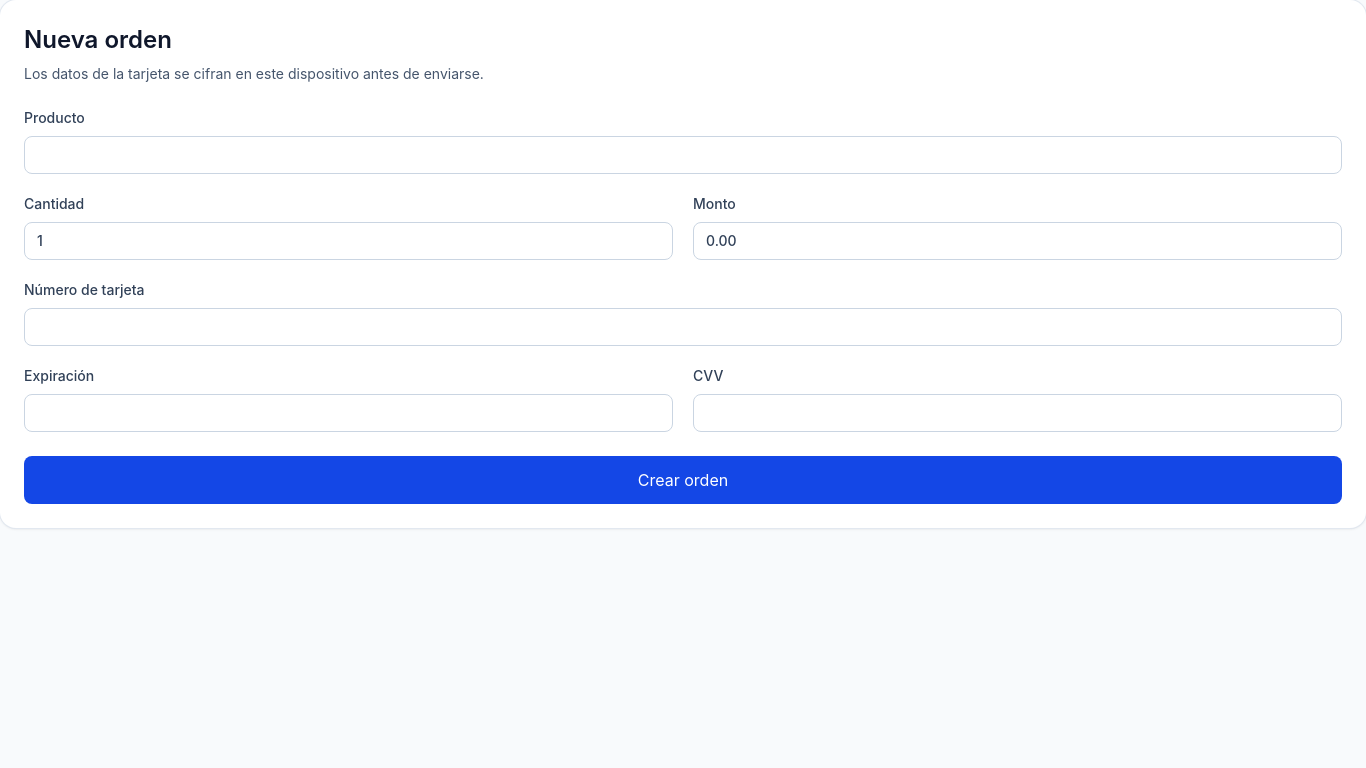
OrderForm › no envía la orden cuando falla el cifrado
Type "Monitor" into the field labelled "Producto" at [683, 155], box [24,136,1342,174]
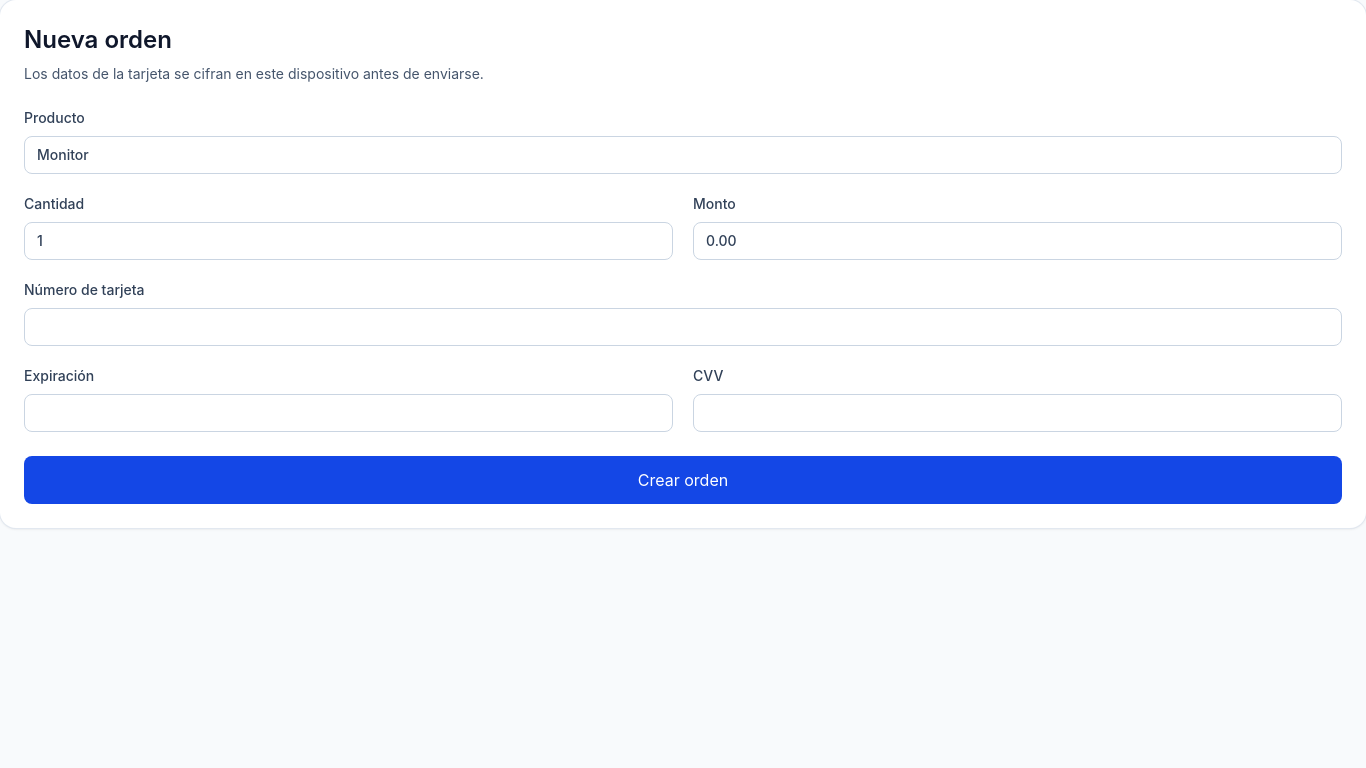
Type "4111111111111111" into the password field labelled "Número de tarjeta" at [683, 327], box [24,308,1342,346]
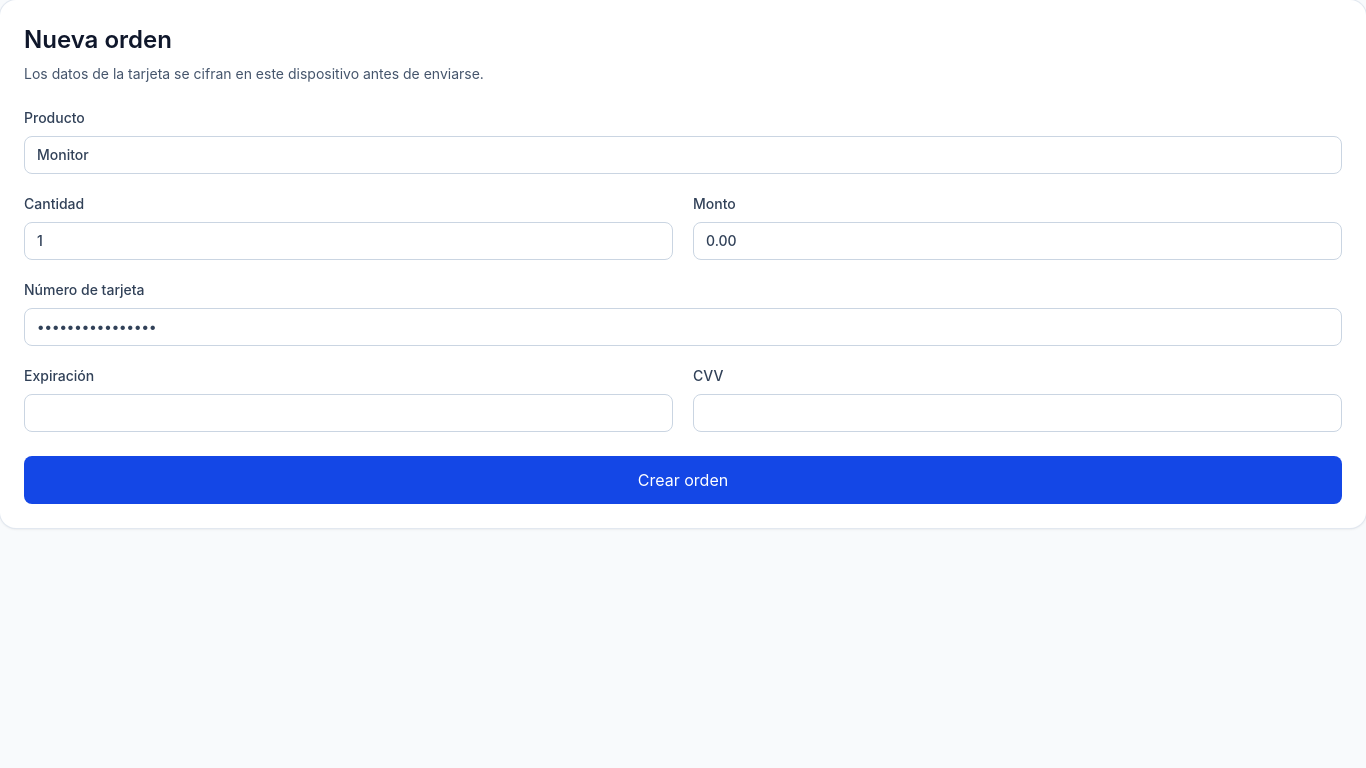
Type "12/30" into the field labelled "Expiración" at [348, 413], box [24,394,673,432]
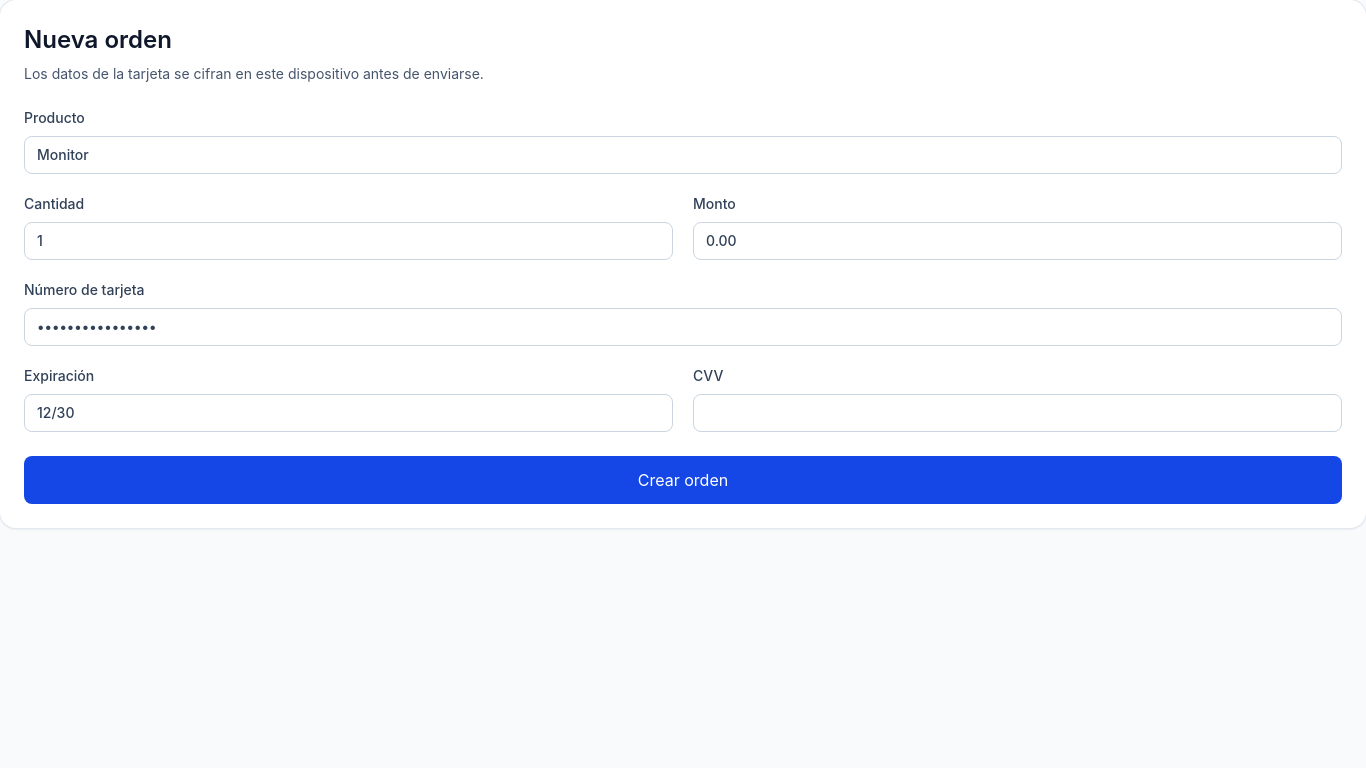
Type "123" into the password field labelled "CVV" at [1018, 413], box [693,394,1342,432]
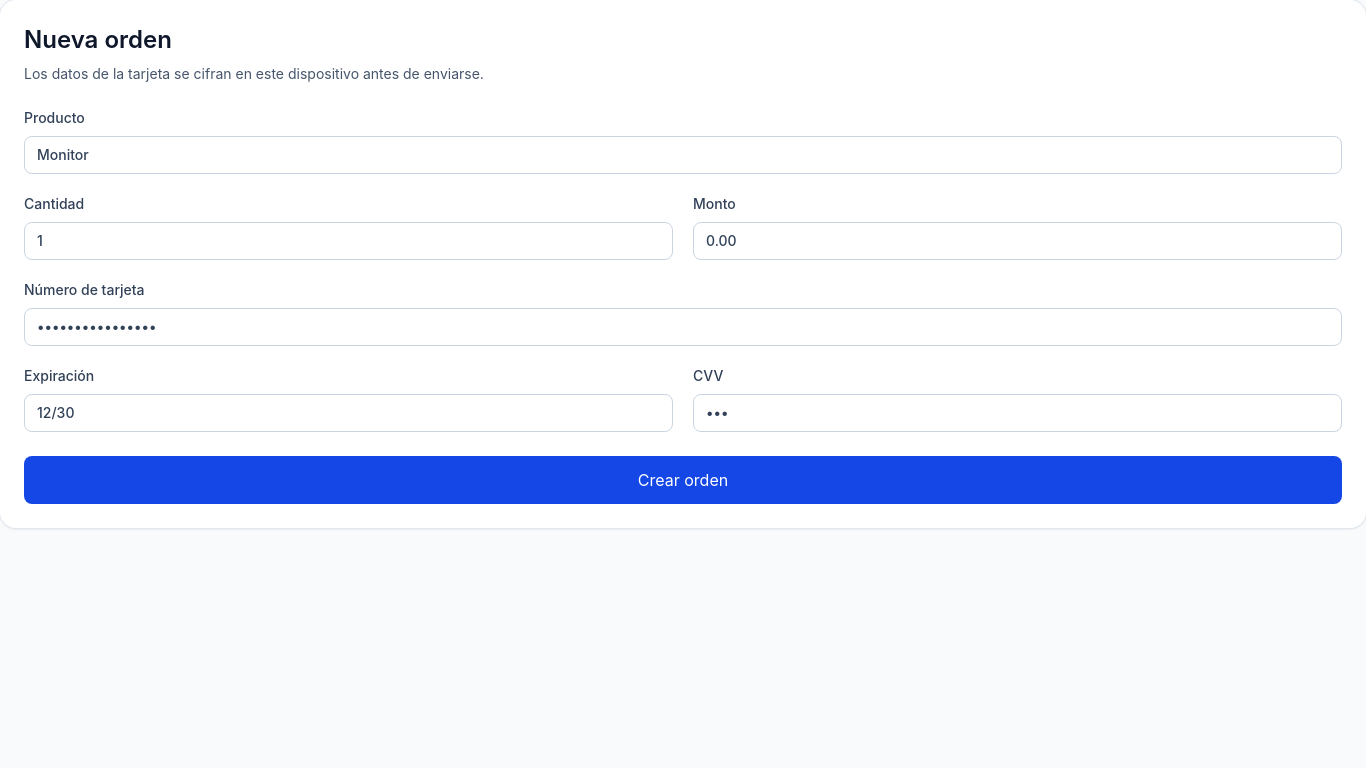
Click the button "Crear orden" at [683, 480], box [24,456,1342,504]
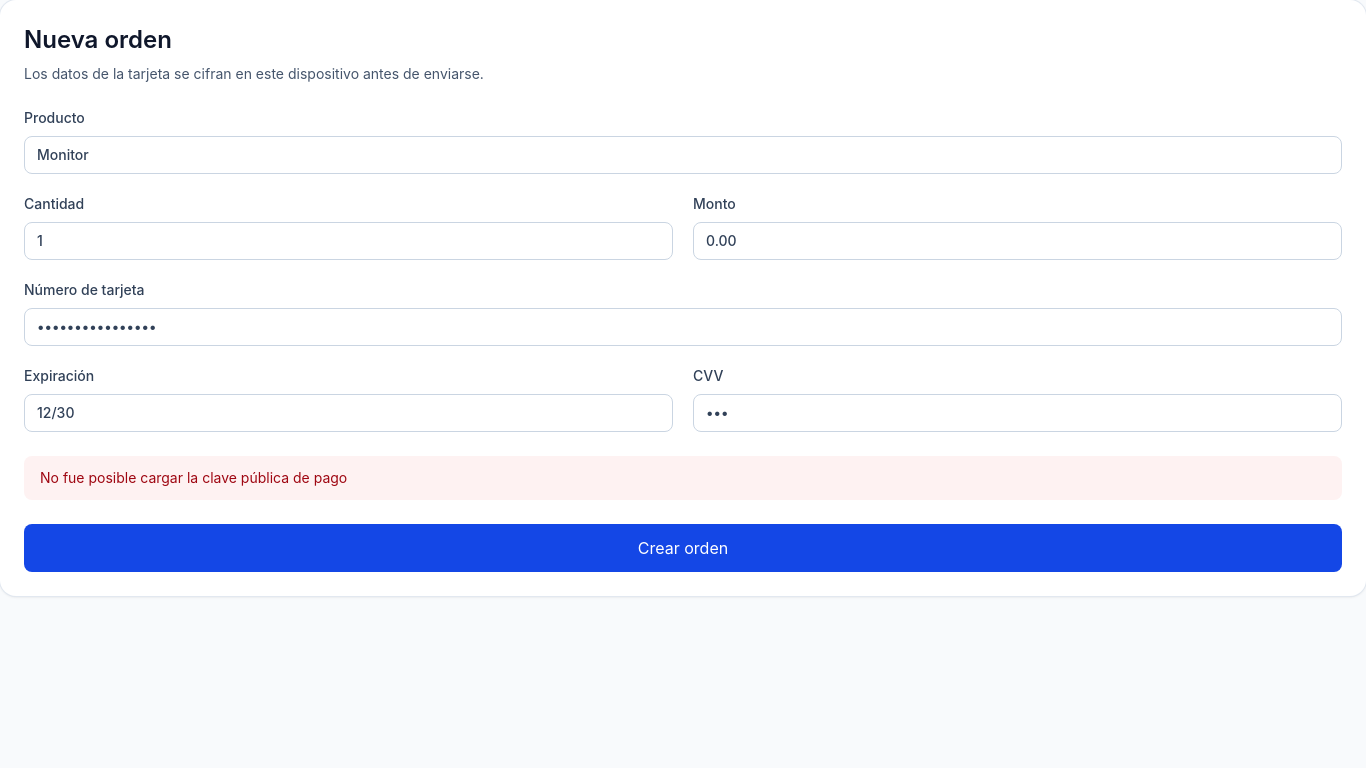
Check: the message reads "No fue posible cargar la clave pública de pago", box [40,469,347,486]
